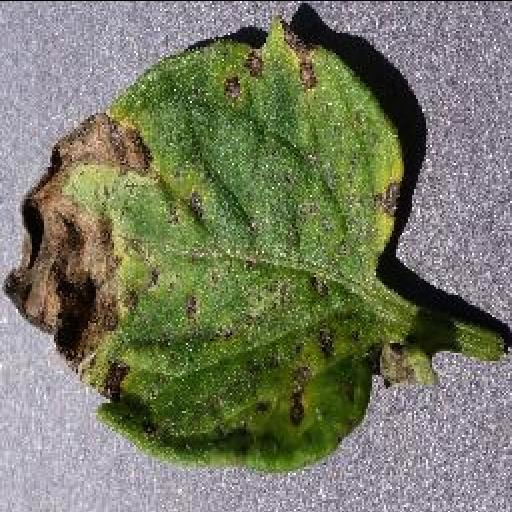disease_tomato: (4, 12, 406, 470)
